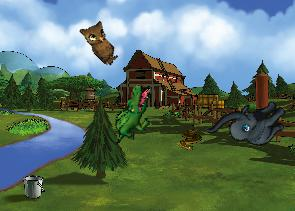crocodile: (114, 83, 152, 144)
elephant: (205, 79, 293, 168)
owl: (75, 15, 128, 67)
